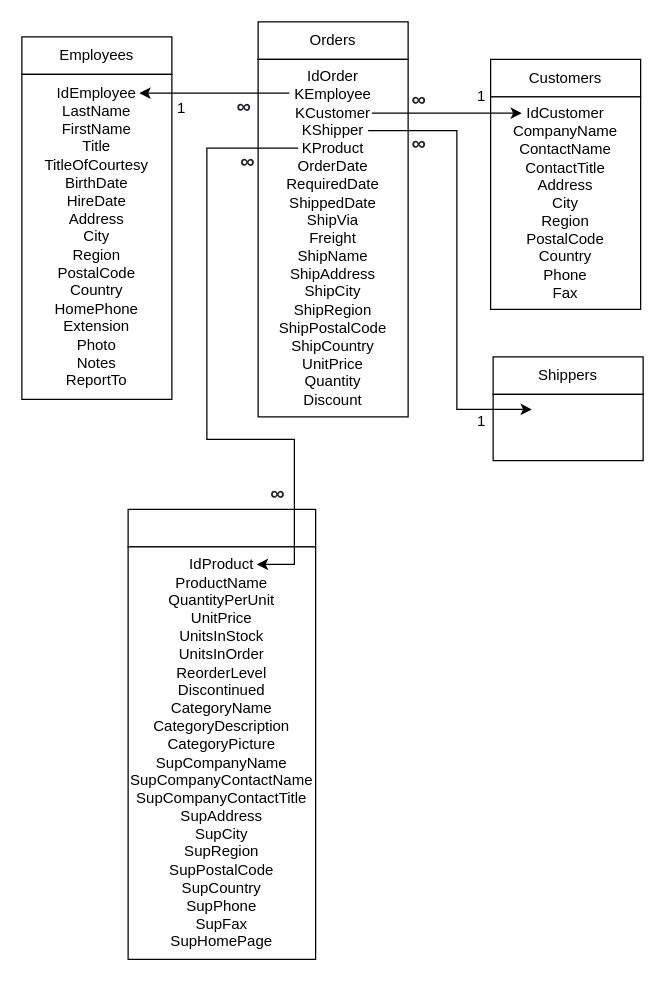
Some shapes in this 665 by 981 pixel diagram are drawn without their labels. Each missing label, with the box of its shape:
IdShipper CompanyName Phone: (492, 393, 643, 461)
Products: (127, 508, 316, 547)
